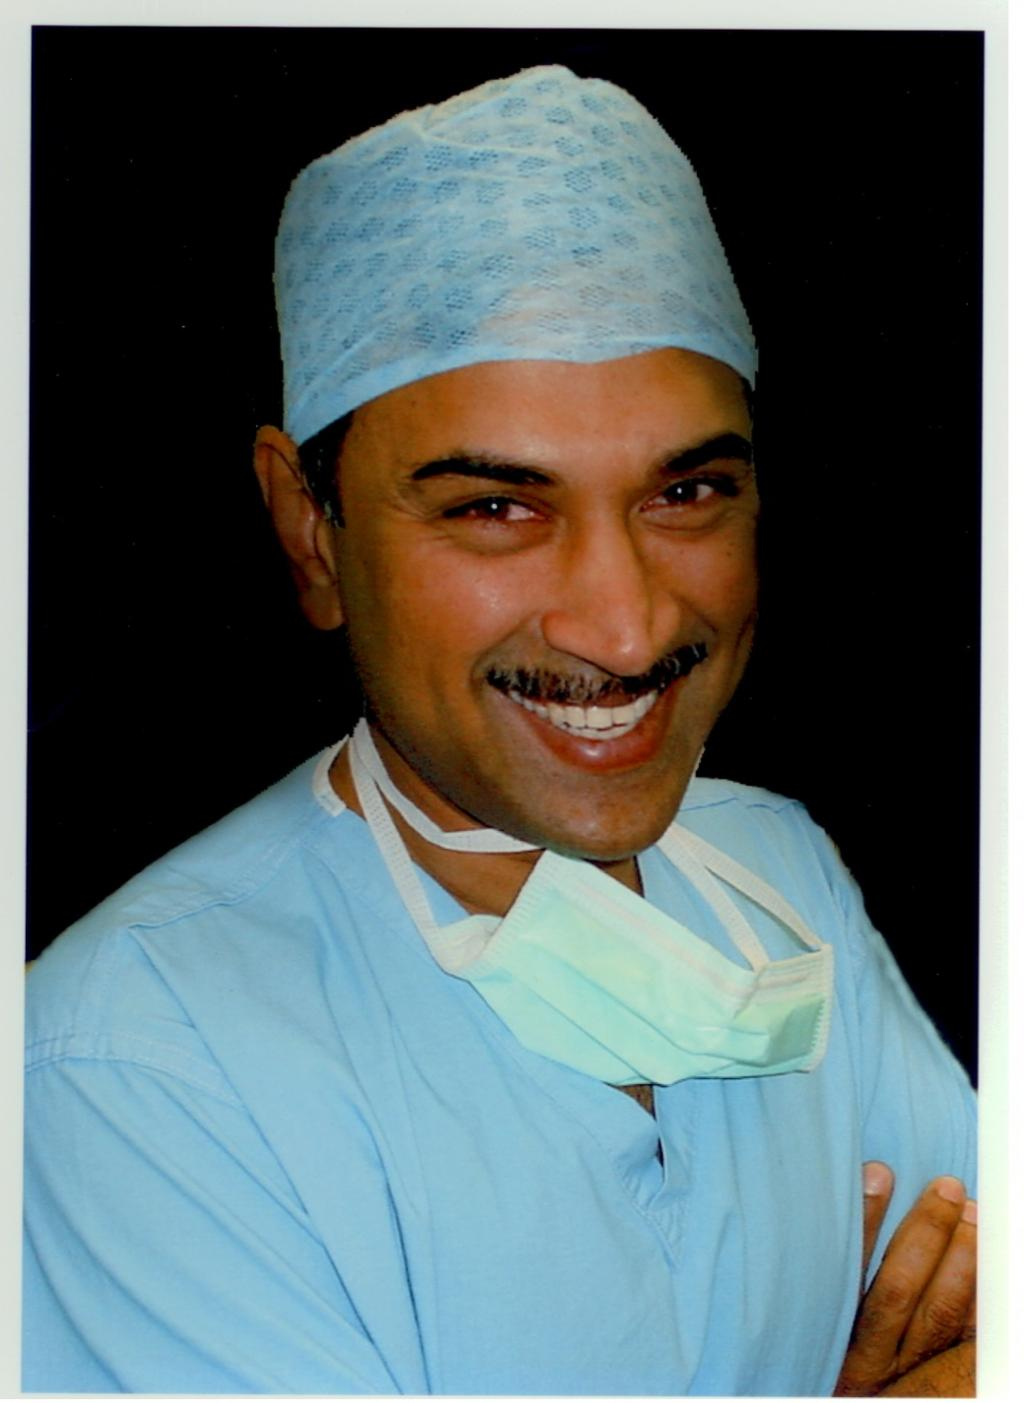face: (356, 350, 764, 859)
